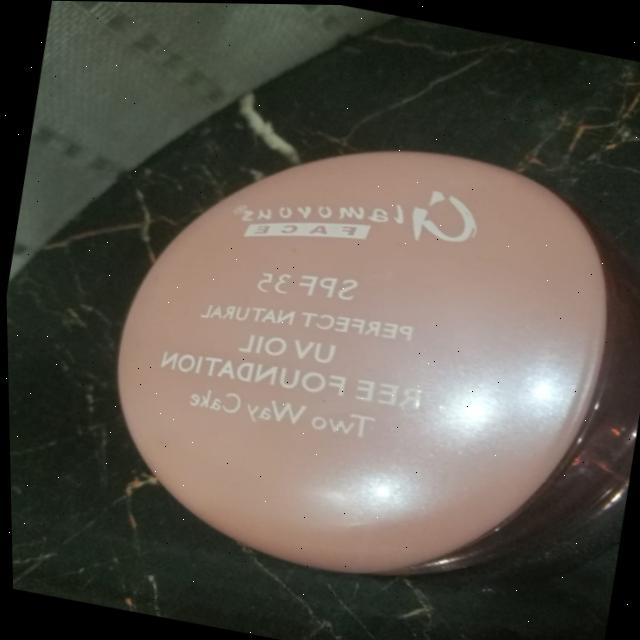foundation: (45, 62, 640, 640)
